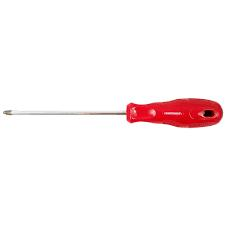screwdriver: (2, 97, 224, 130)
